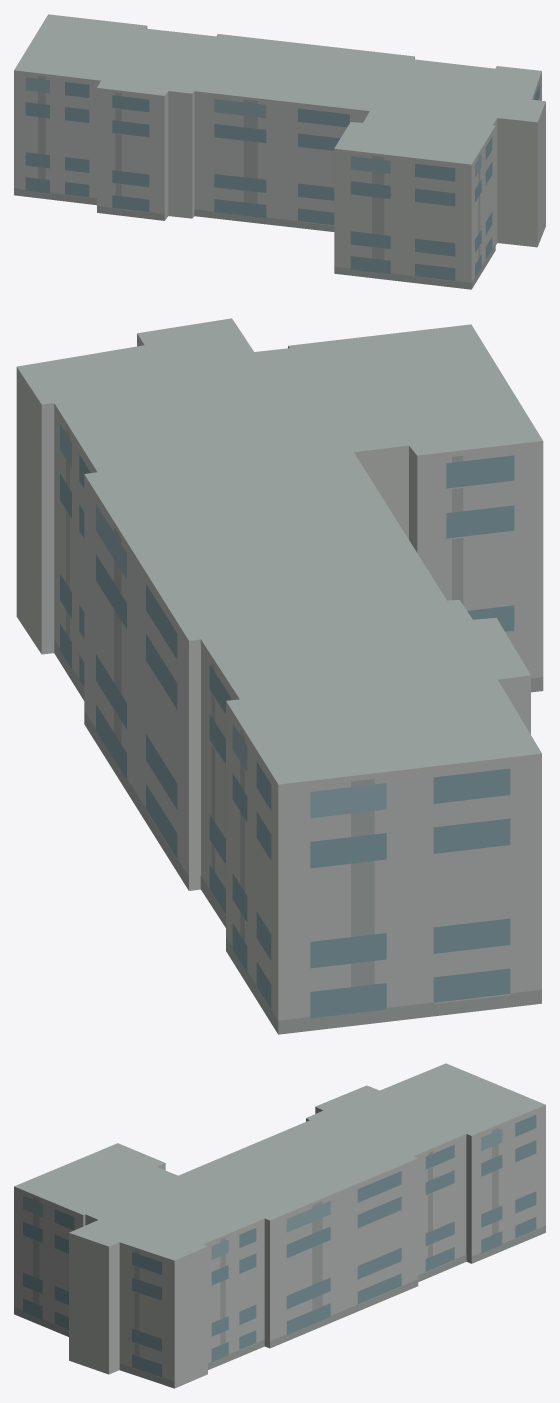
Rendered from survey-upis-32470381.glb.
3 views of the same model, one above another, from view 1: azimuth 30°, elevation 25°; view 2: azimuth 150°, elevation 25°; view 3: azimuth 270°, elevation 25° (orthographic). The views are drawn at different scales.
Visible parts, largest first — view 1: survey-upis-32470381.tmp; view 2: survey-upis-32470381.tmp; view 3: survey-upis-32470381.tmp.
Part boxes in pixels (<box>): survey-upis-32470381.tmp: <box>14,14,545,289</box>; survey-upis-32470381.tmp: <box>16,318,543,1034</box>; survey-upis-32470381.tmp: <box>14,1063,545,1388</box>.
Bounding box in the file's own units: 37.44 × 11.31 × 42.63.
